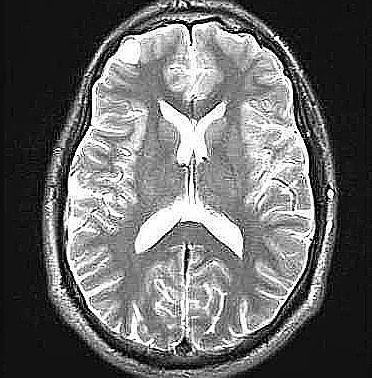Normal_Brain: (1, 1, 372, 378)
